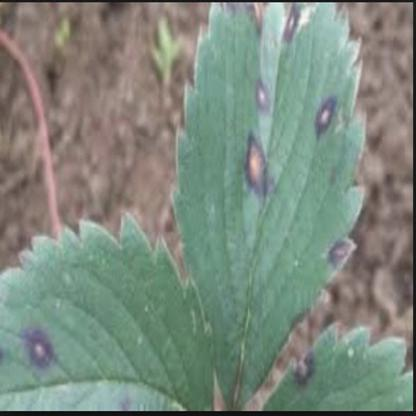Strawberry_Leaf_Spot: (171, 2, 365, 411), (0, 208, 216, 411), (262, 320, 414, 412)
